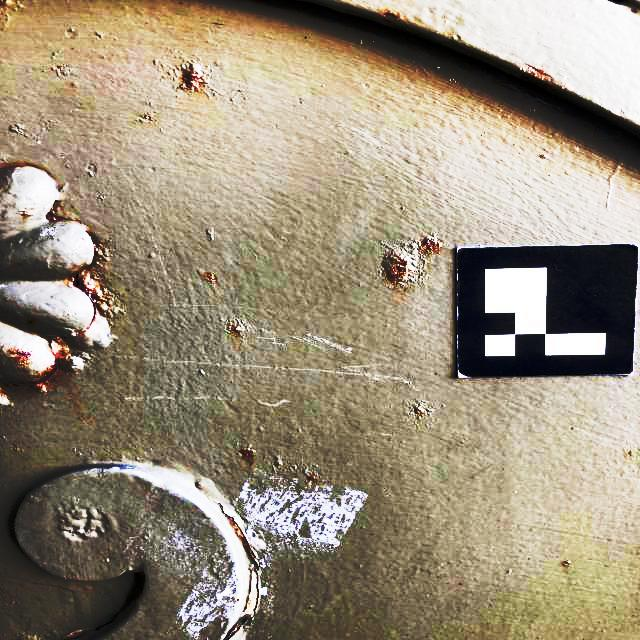Corrosion: (390, 235, 443, 282), (3, 351, 65, 391), (66, 267, 100, 331), (225, 514, 256, 558), (9, 347, 35, 361), (183, 70, 207, 84), (381, 10, 401, 21), (240, 449, 254, 460), (46, 205, 55, 221), (24, 317, 36, 326), (206, 272, 216, 281), (229, 326, 239, 333), (21, 210, 29, 217), (307, 476, 314, 482)
